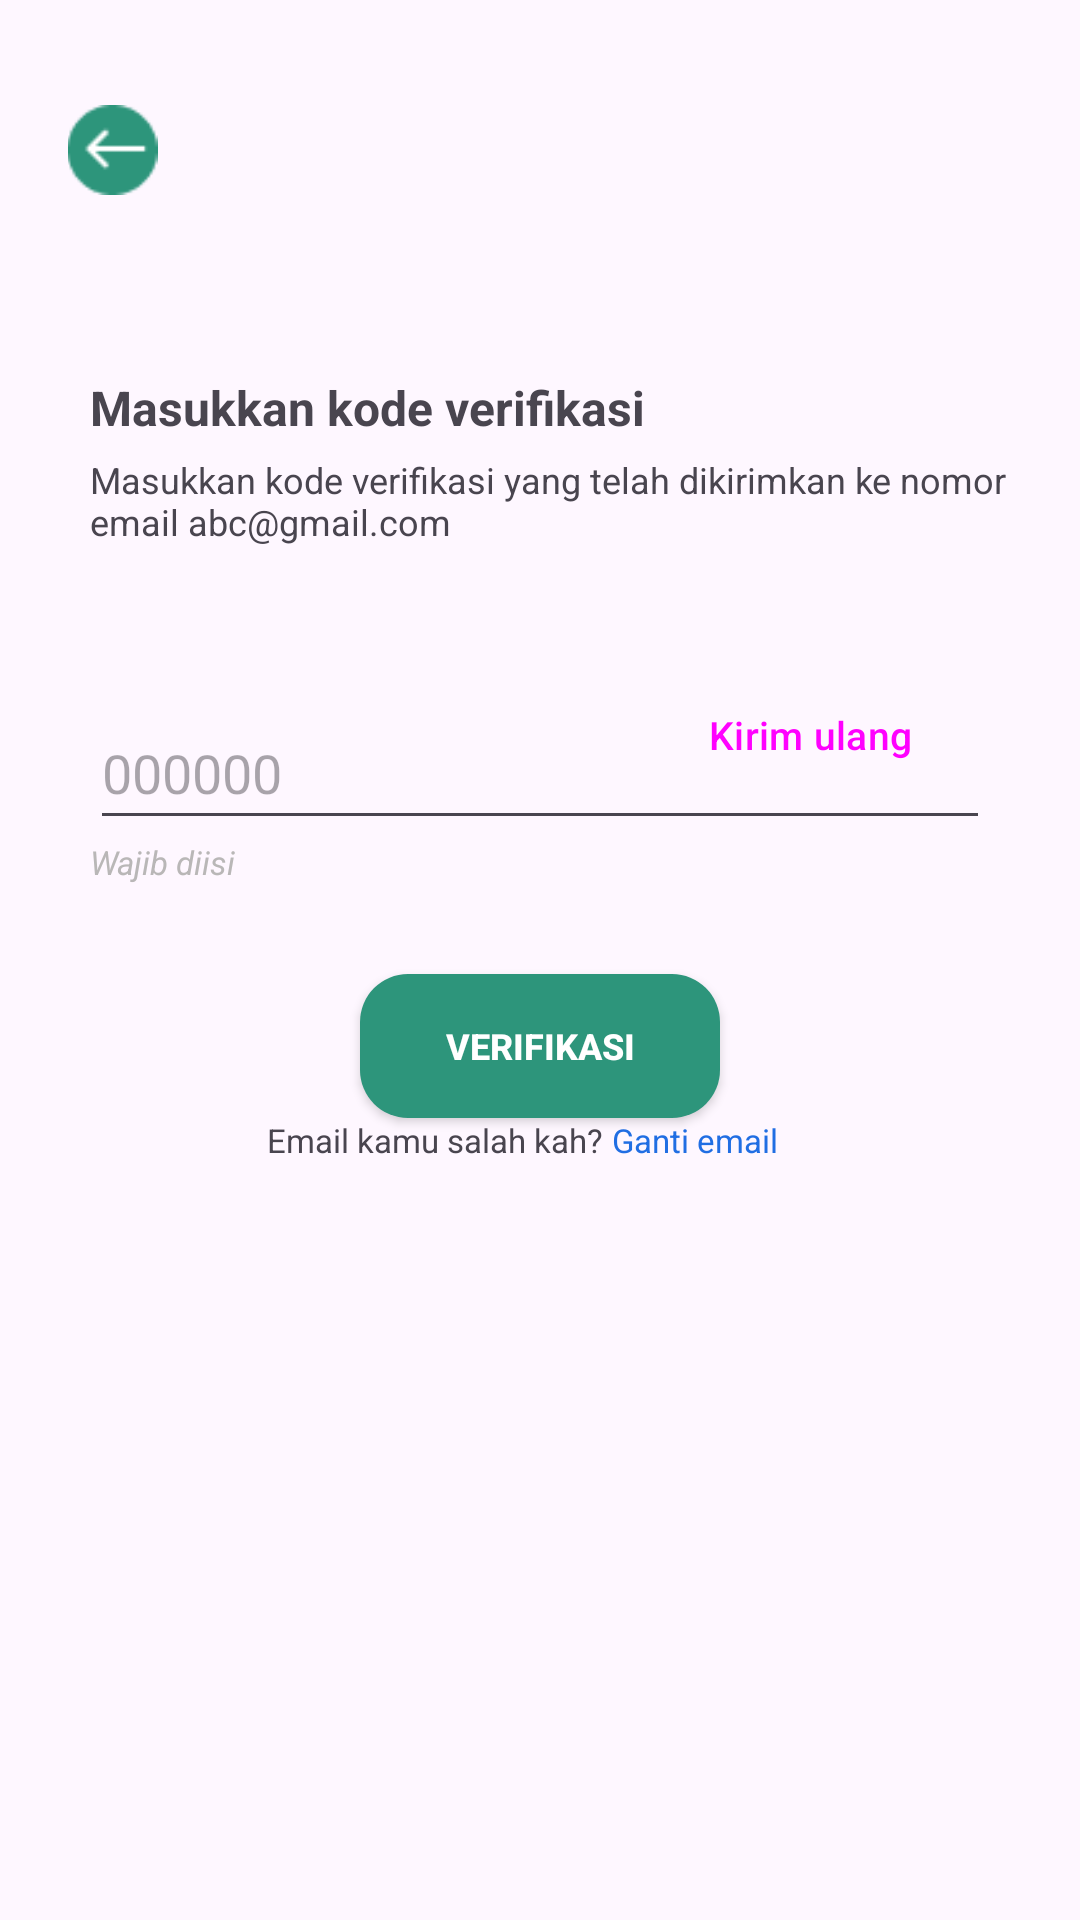

Where to tap for icons on this 1080*1920 app screen, as point (x, y):
back: point (113, 150)
